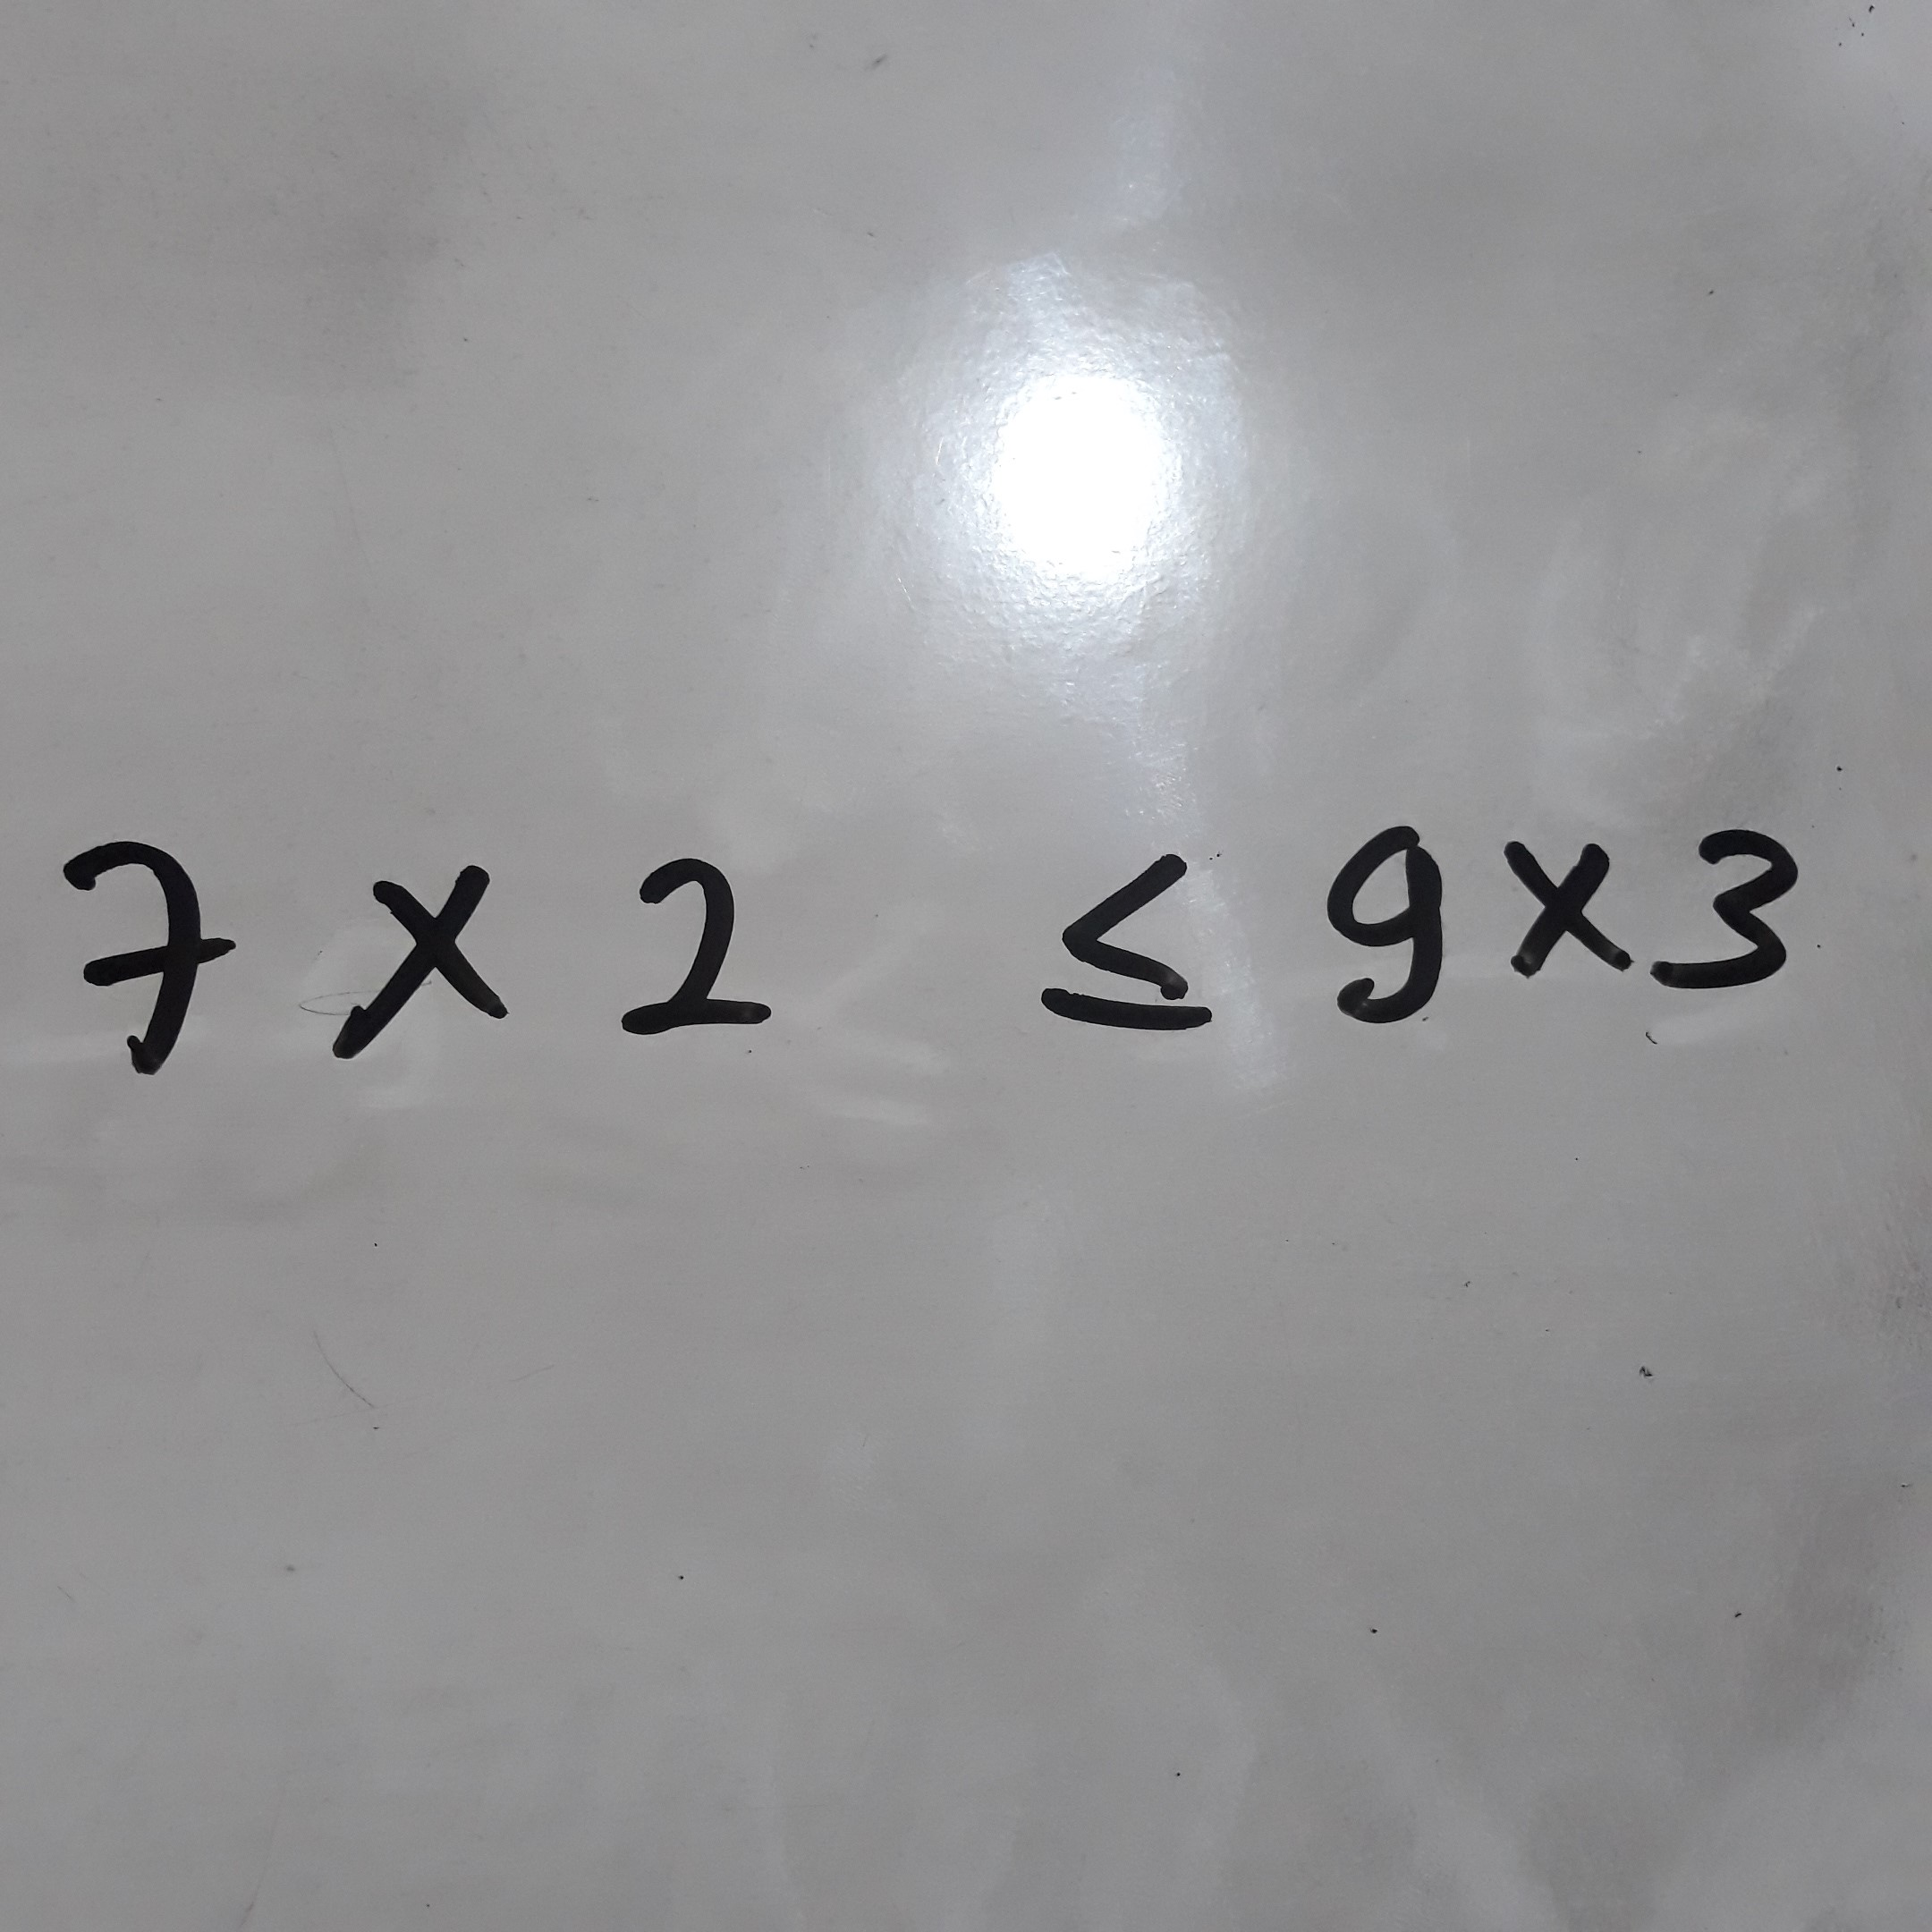lessthan-equal: (1024, 829, 1224, 1046)
multi: (318, 843, 528, 1069), (1497, 809, 1632, 994)
num2: (594, 833, 781, 1054)
num3: (1648, 804, 1806, 1011)
num7: (30, 816, 261, 1112)
num9: (1296, 813, 1478, 1046)
